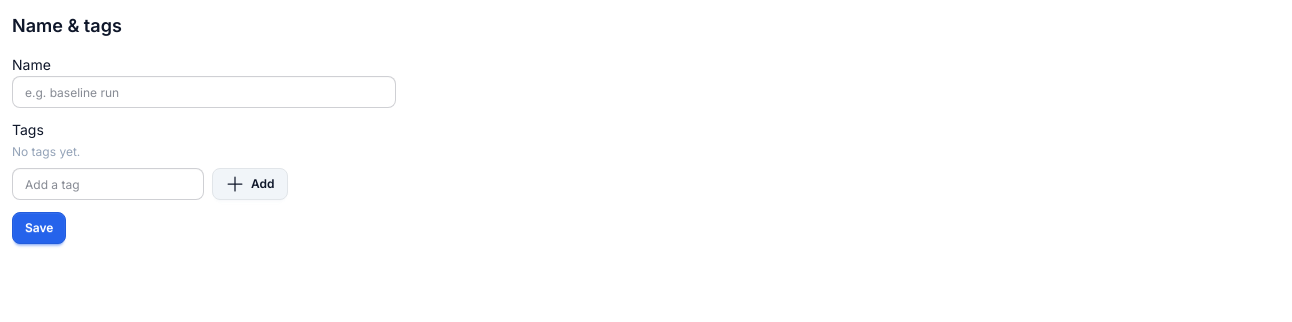
Test case: JobMetadataEditor › shows the error of a failed save
This screenshot has width=1292, height=322.
Click the button "Save" at coordinates (39, 228), box [12,212,66,244]
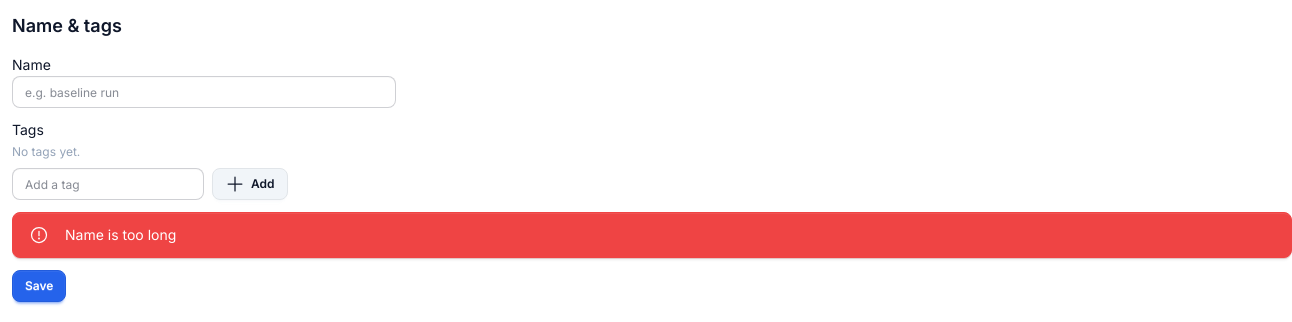
Expected: the message reads "Name is too long", [65,226,176,243]
